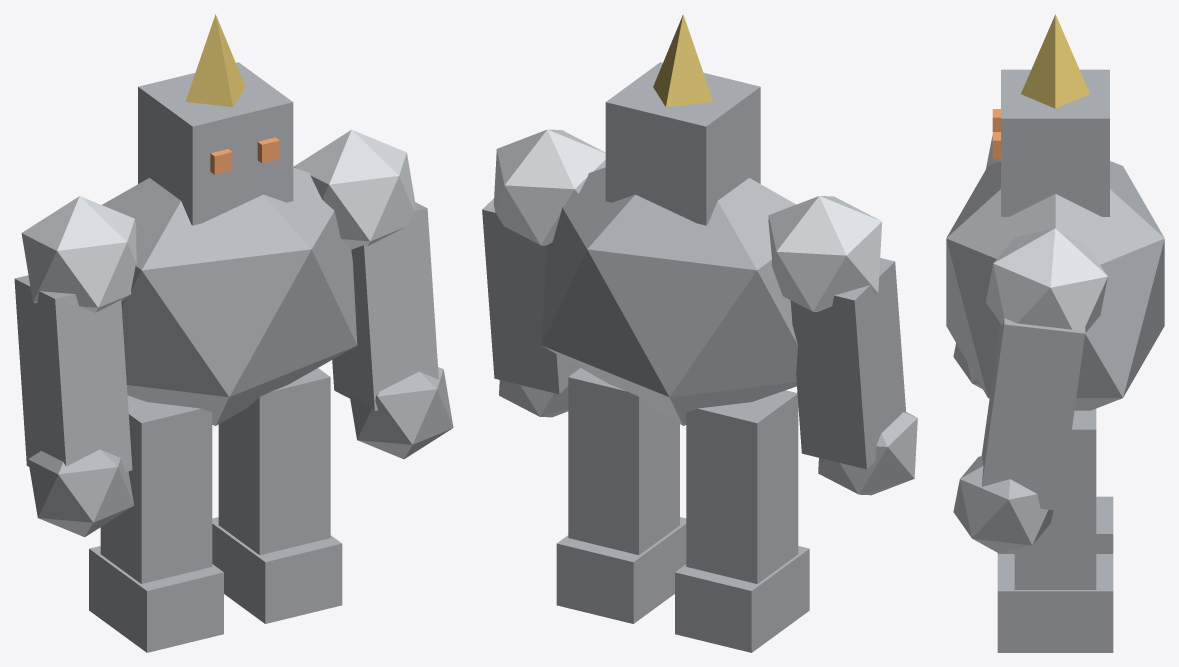
Rendered from npcpose_golem_idle_00.glb.
3 renders of one model, left to right at view 1: azimuth 30°, elevation 25°; view 2: azimuth 150°, elevation 25°; view 3: azimuth 270°, elevation 25°, orthographic.
Visible parts, largest first — view 1: npcpose; view 2: npcpose; view 3: npcpose.
Part boxes in pixels (x1,y1,x2,y2): npcpose: (14,14,453,652); npcpose: (482,14,917,652); npcpose: (946,14,1164,652).
Bounding box in the file's own units: 1.38 × 1.92 × 0.6431.
